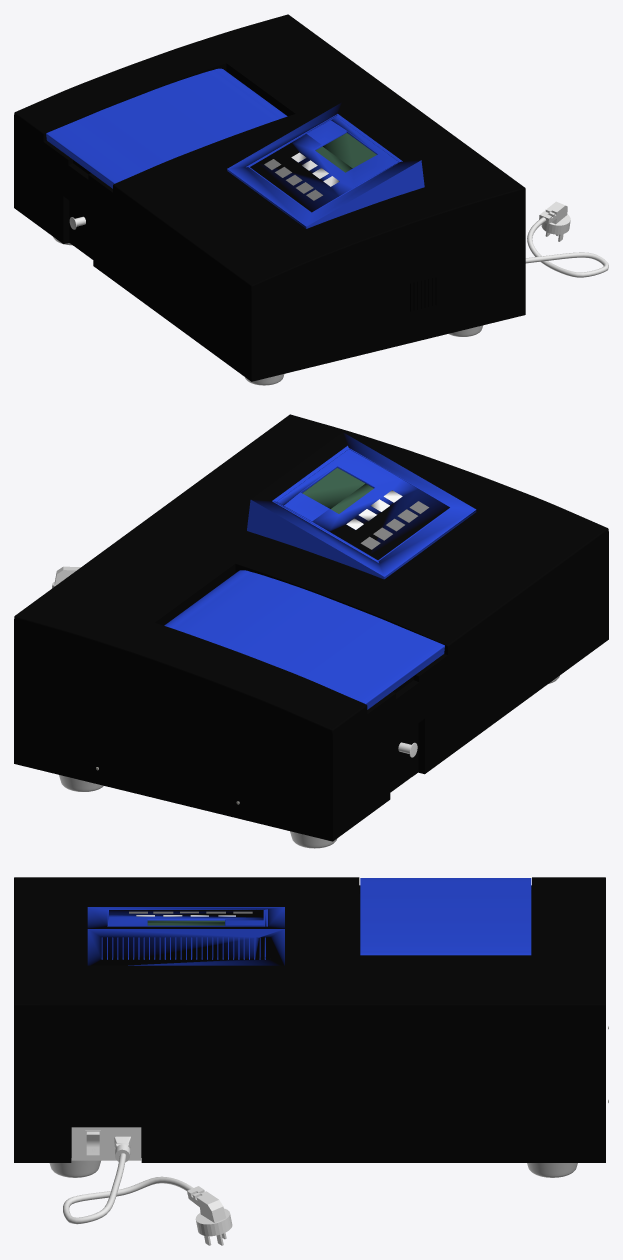
Rendered from 分光光度计.fbx.
3 views of the same model, one above another, from view 1: azimuth 30°, elevation 25°; view 2: azimuth 150°, elevation 25°; view 3: azimuth 270°, elevation 25° (orthographic). The views are drawn at different scales.
Visible parts, largest first — view 1: Cylinder041, Box285, Box146, Line001; view 2: Cylinder041, Box285, Box146; view 3: Cylinder041, Box285, Box146, Box316, Line001, NGon001, Cone010, Cone012, Circle001.
Part boxes in pixels (x1,y1,x2,y2): Cylinder041: (14, 14, 525, 381); Box285: (46, 68, 287, 188); Box146: (227, 102, 424, 228); Line001: (525, 217, 608, 277); Cylinder041: (14, 414, 608, 841); Box285: (164, 570, 444, 709); Box146: (247, 432, 476, 579); Cylinder041: (14, 877, 605, 1162); Box285: (360, 878, 531, 955); Box146: (87, 907, 284, 965); Box316: (71, 1127, 141, 1160); Line001: (63, 1153, 192, 1224); NGon001: (187, 1186, 226, 1222); Cone010: (49, 1158, 100, 1177); Cone012: (527, 1163, 577, 1177); Circle001: (195, 1208, 232, 1236).
Size of the model in its own units: 440 by 183 by 452.
